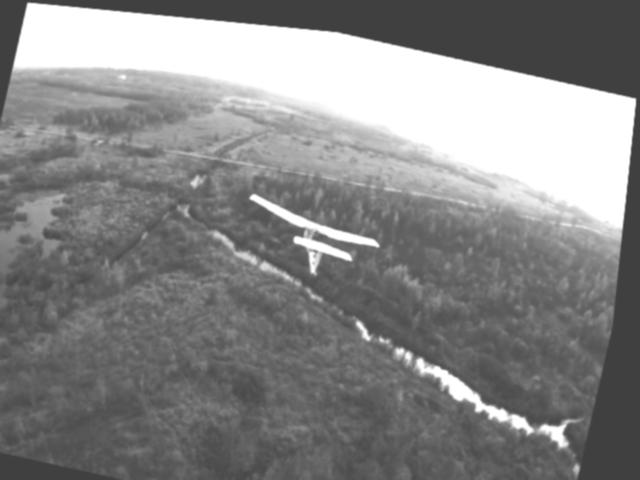hedef: (236, 180, 402, 297)
